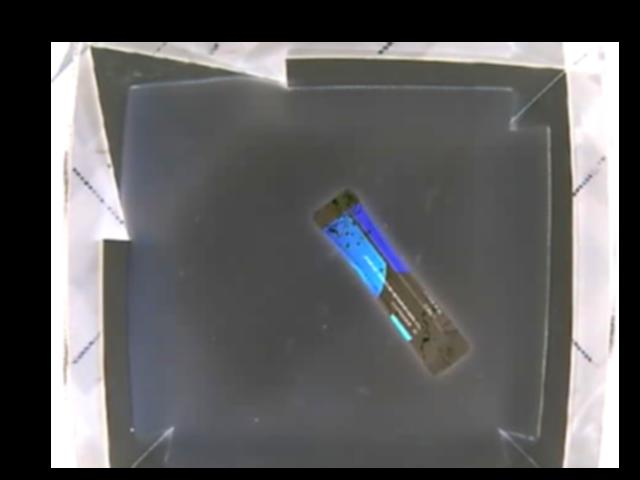Medicine: (311, 186, 472, 380)
